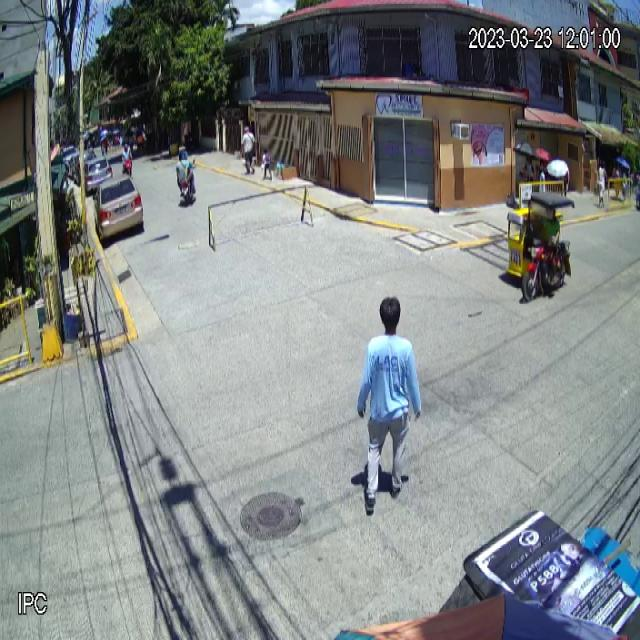Tricycle: (502, 192, 571, 301)
